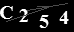2: (18, 8, 29, 24)
4: (58, 10, 70, 25)
5: (38, 13, 50, 29)
C: (1, 5, 14, 20)
